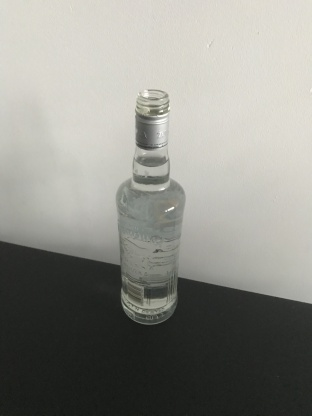nakretka: (133, 86, 171, 151)
